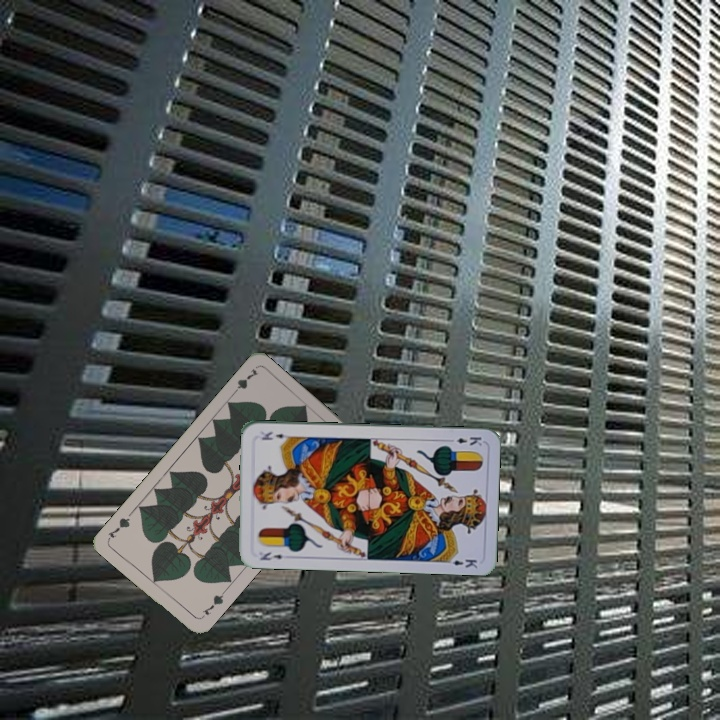EK: (444, 433, 484, 449), (256, 548, 285, 563)
G7: (228, 365, 261, 398), (197, 587, 228, 621)
